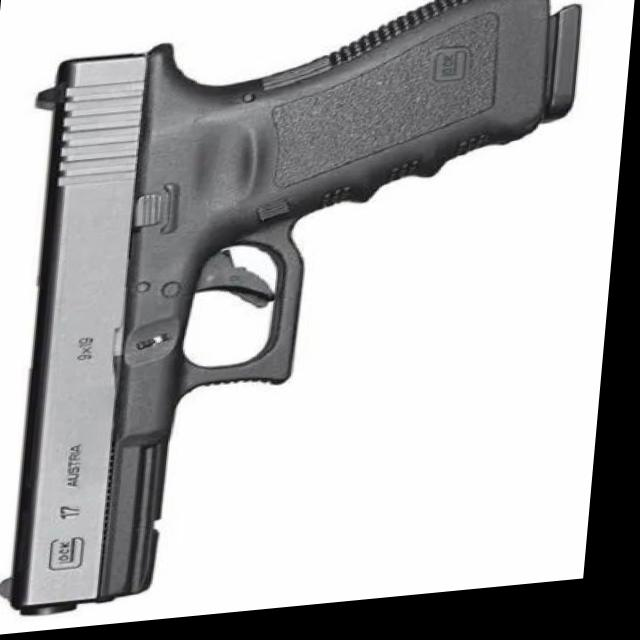handgun: (0, 0, 618, 633), (0, 0, 619, 630)
